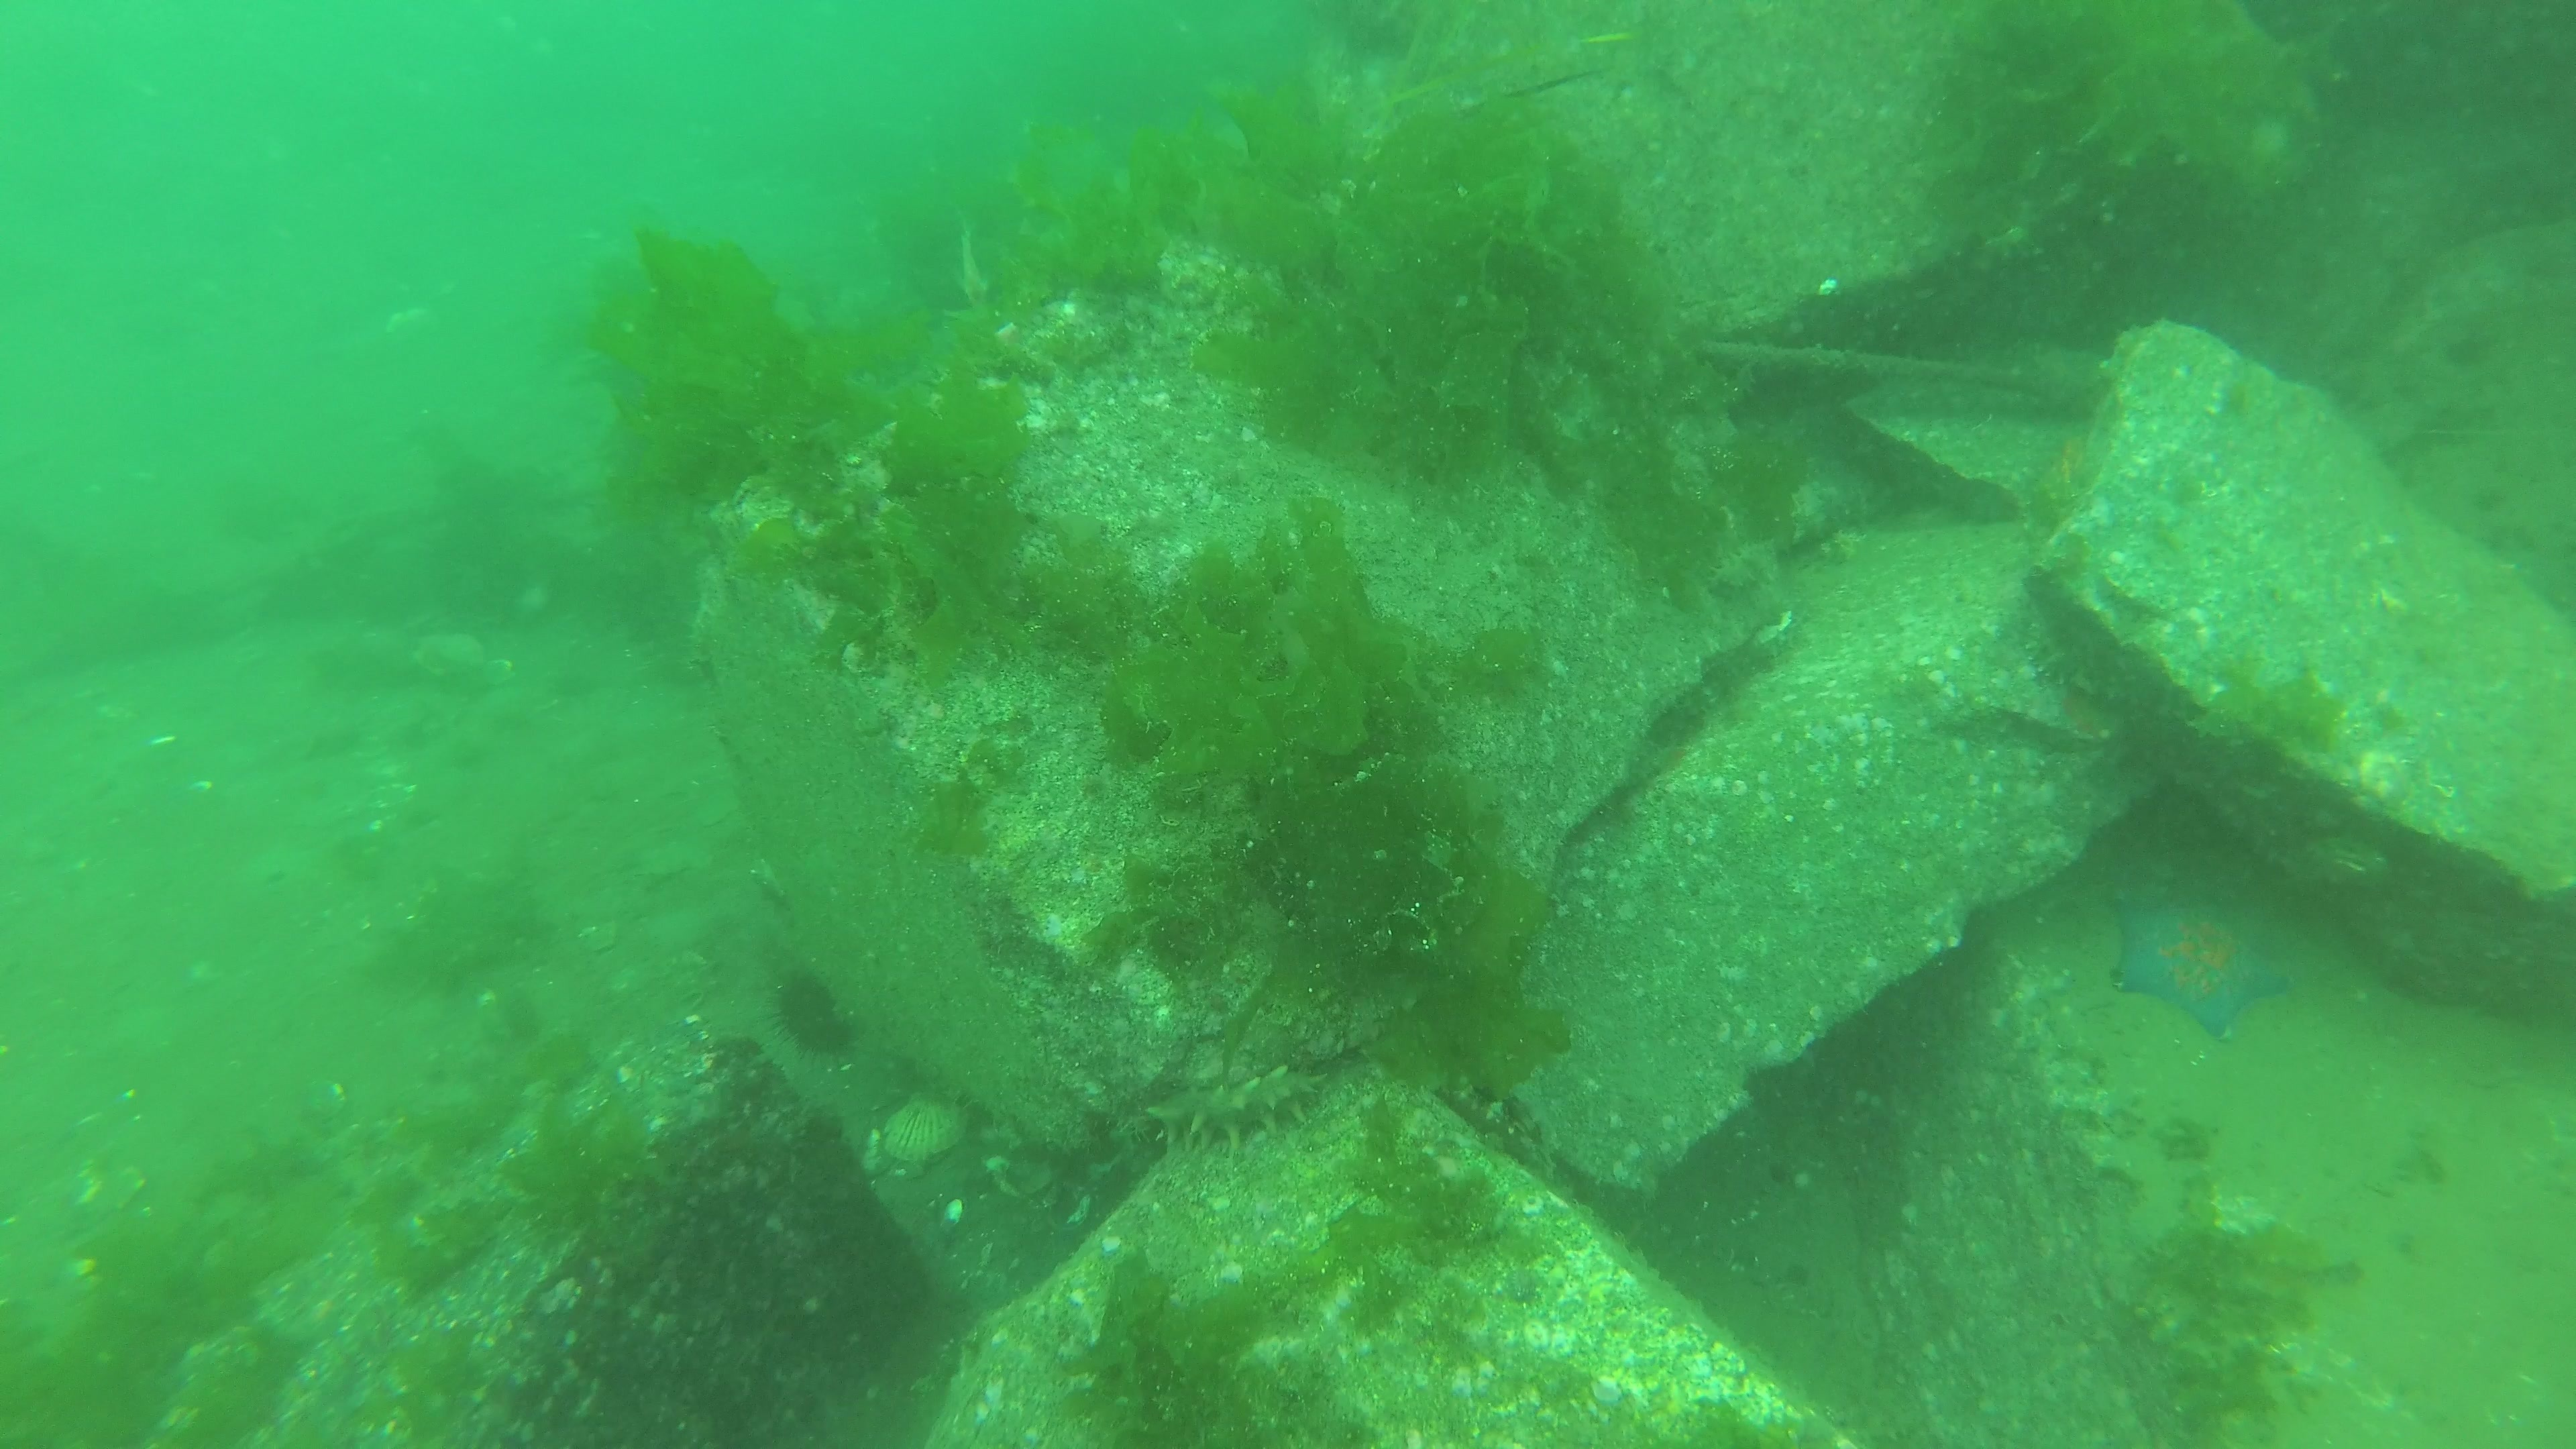echinus: (773, 970, 860, 1065)
holothurian: (1152, 1062, 1327, 1155)
scallop: (879, 1088, 966, 1162)
starfish: (2109, 893, 2298, 1044)
